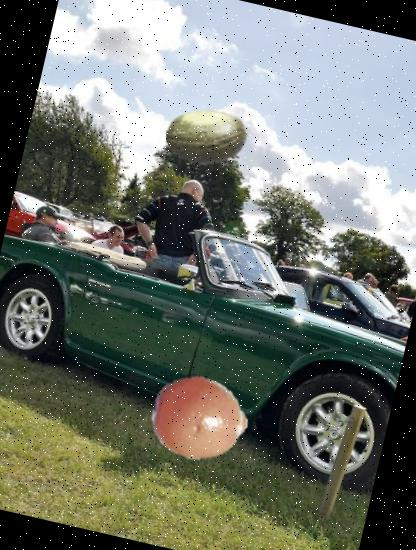Melon: (158, 88, 256, 186)
Tangelo: (142, 361, 257, 476)
